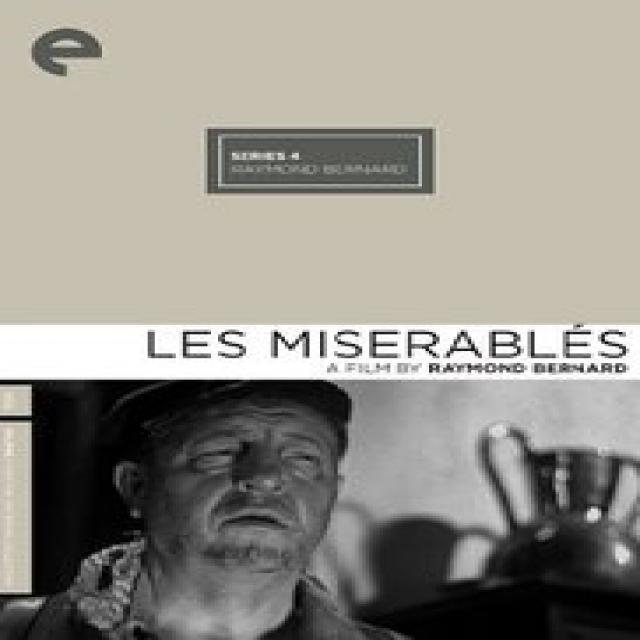movie-judul: (146, 326, 632, 362)
picture: (0, 377, 640, 638)
